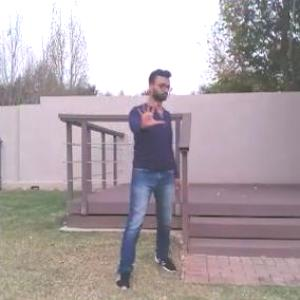follow_hand: (131, 95, 168, 133)
